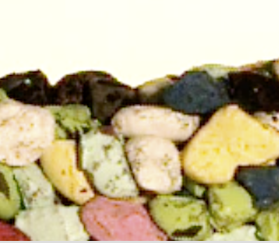black: (58, 71, 131, 123), (1, 71, 63, 107), (226, 70, 279, 111)
blue: (165, 71, 227, 117)
green: (9, 199, 84, 243), (144, 192, 212, 238), (204, 181, 258, 233), (10, 161, 56, 206), (186, 61, 245, 78)
pink: (79, 197, 163, 243)
white: (109, 104, 201, 144), (125, 138, 184, 195), (1, 105, 53, 167), (135, 77, 170, 105)
yellow: (186, 107, 277, 183), (36, 139, 96, 203)
